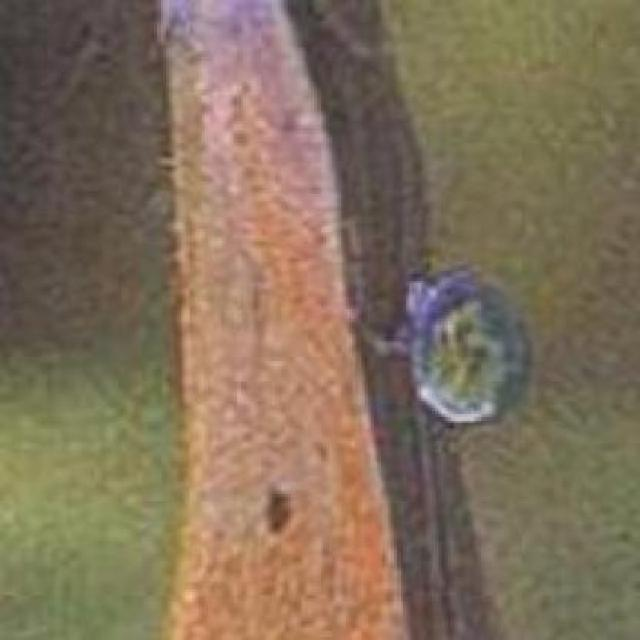stem-borer: (152, 0, 413, 640)
